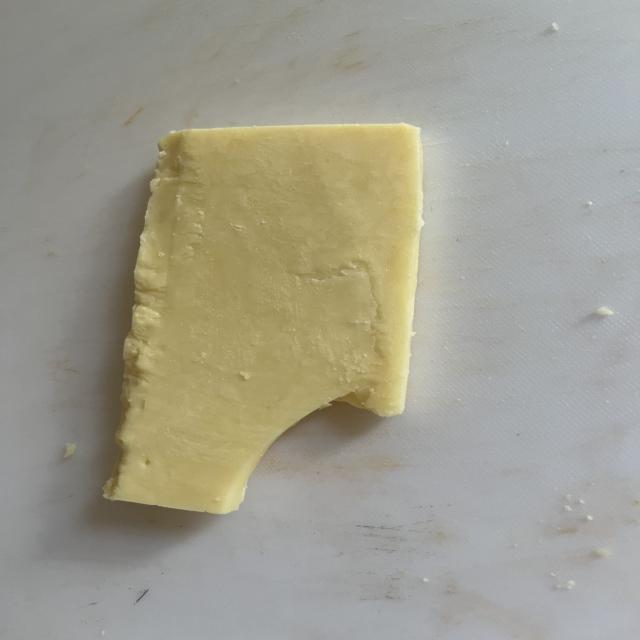cheese: (105, 124, 422, 514)
